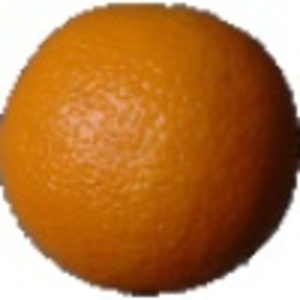laranja: (1, 3, 299, 294)
